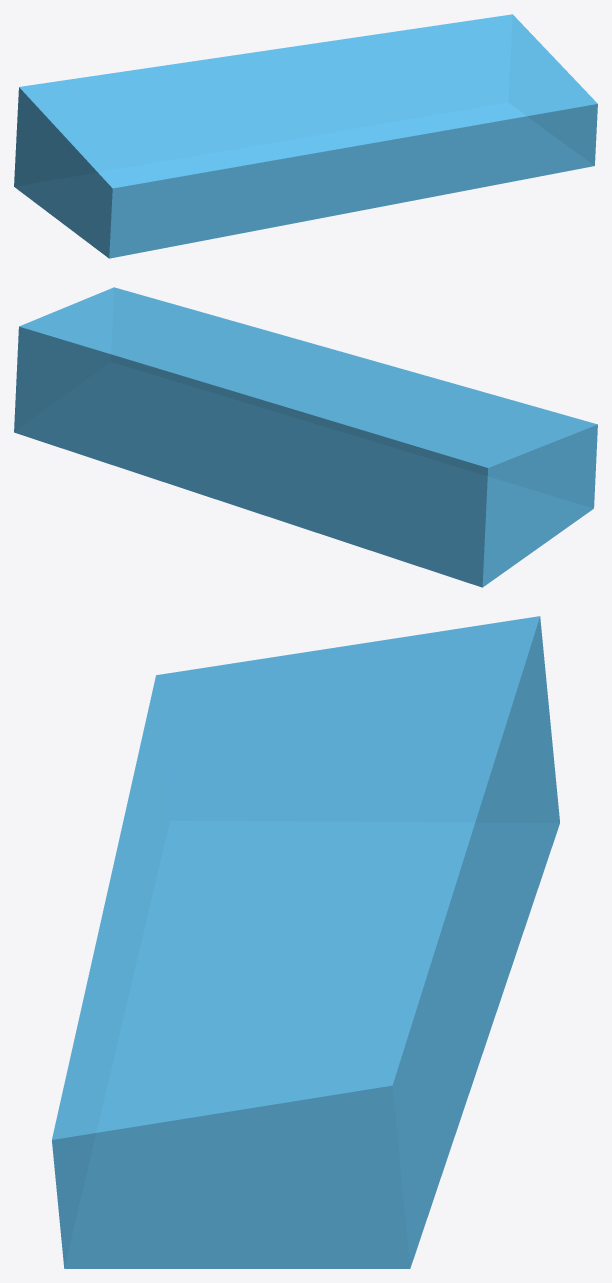
The model's file is Event_421115418_HErechit_105.fbx.
The picture shows the model from 3 angles, top to bottom: view 1: azimuth 30°, elevation 25°; view 2: azimuth 150°, elevation 25°; view 3: azimuth 270°, elevation 25°; orthographic projection. The views are drawn at different scales.
Visible parts, largest first — view 1: Model; view 2: Model; view 3: Model.
Part boxes in pixels (bbox=[...]): Model: bbox=[14, 14, 597, 258]; Model: bbox=[14, 287, 597, 587]; Model: bbox=[52, 616, 559, 1268].
Bounding box in the file's own units: 1.43 × 0.3083 × 0.6866.
